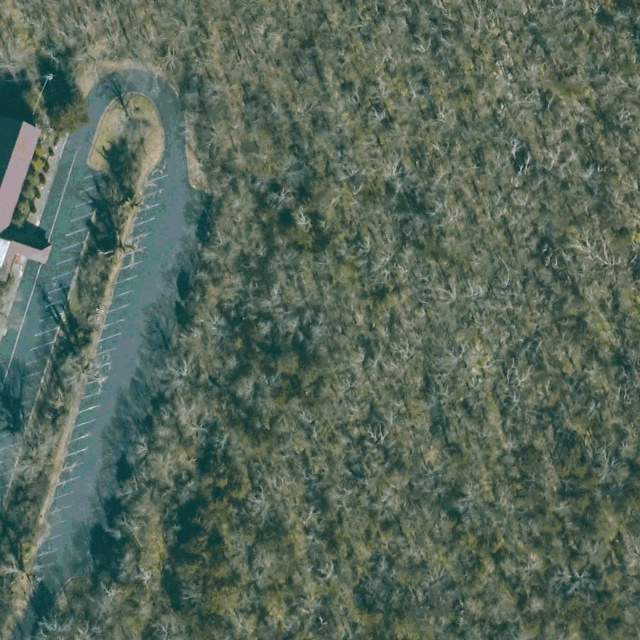vegetation: (0, 0, 640, 640), (0, 104, 154, 640)
